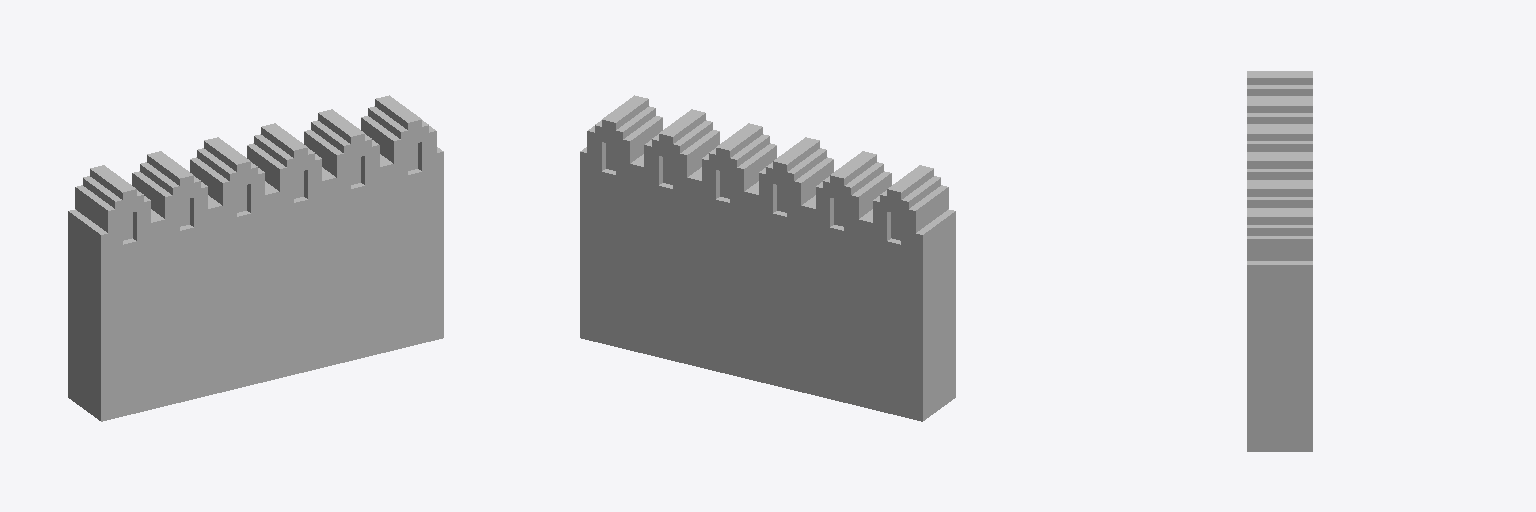
The model's file is stena.obj.
3 renders of one model, left to right at view 1: azimuth 30°, elevation 25°; view 2: azimuth 150°, elevation 25°; view 3: azimuth 270°, elevation 25°, orthographic.
Visible parts, largest first — view 1: object 1; view 2: object 1; view 3: object 1.
Boxes of the visible parts, x1=… form: object 1: x1=68, y1=95, x2=443, y2=421; object 1: x1=580, y1=95, x2=955, y2=421; object 1: x1=1247, y1=71, x2=1312, y2=451.
Size of the model in its own units: 4.8 by 3 by 0.8.